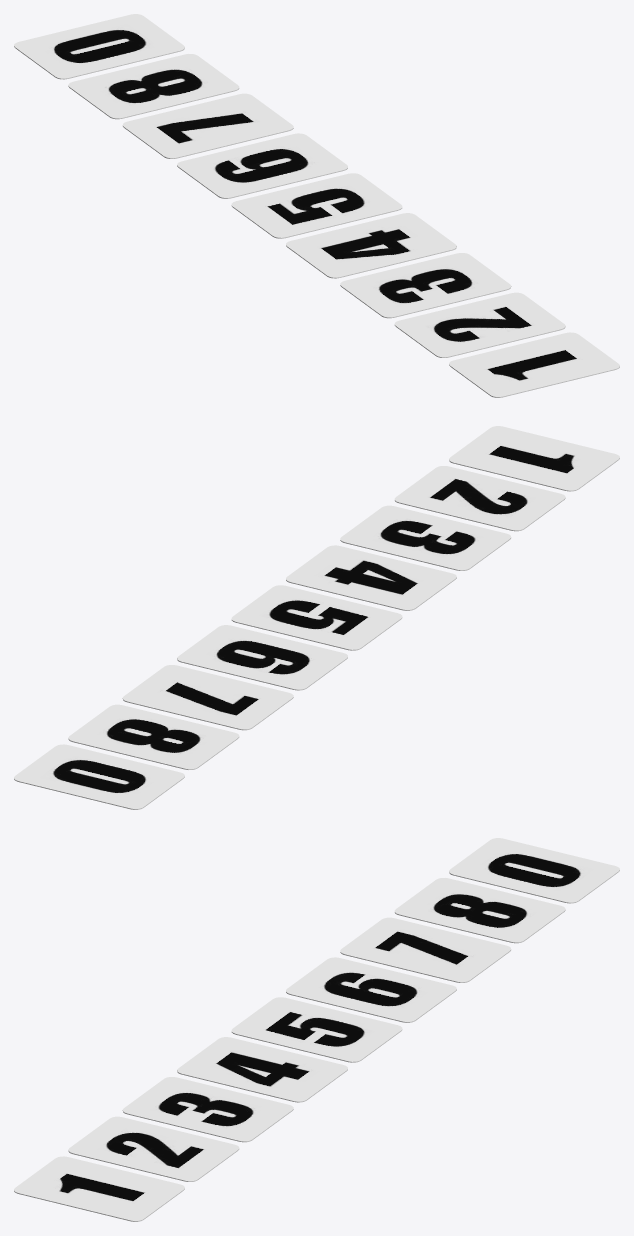
The model's file is CardDeck.fbx.
3 views of the same model, one above another, from view 1: azimuth 30°, elevation 25°; view 2: azimuth 150°, elevation 25°; view 3: azimuth 330°, elevation 25° (orthographic).
Parts seen in each view (by area): view 1: Four, Six, One, Zero, Five, Eight, Two, Seven, Three; view 2: Four, Six, One, Zero, Five, Eight, Two, Seven, Three; view 3: Four, Six, One, Zero, Five, Eight, Two, Seven, Three.
Part boxes in pixels (x1,y1,x2,y2): Four: (286,213,456,278); Six: (177,133,347,198); One: (449,332,619,397); Zero: (14,14,184,79); Five: (231,173,402,238); Eight: (68,54,239,119); Two: (394,292,565,357); Seven: (122,93,293,158); Three: (340,253,511,318); Four: (286,545,456,610); Six: (177,625,347,690); One: (449,426,619,491); Zero: (14,744,184,809); Five: (231,585,402,650); Eight: (68,704,239,769); Two: (394,466,565,531); Seven: (122,665,293,730); Three: (340,505,511,570); Four: (177,1037,347,1102); Six: (286,957,456,1022); One: (14,1156,184,1221); Zero: (449,838,619,903); Five: (231,997,402,1062); Eight: (394,878,565,943); Two: (68,1116,239,1181); Seven: (340,917,511,982); Three: (122,1077,293,1142).
Size of the model in its own units: 300 by 2 by 1961.
1 material, 1 textured.
